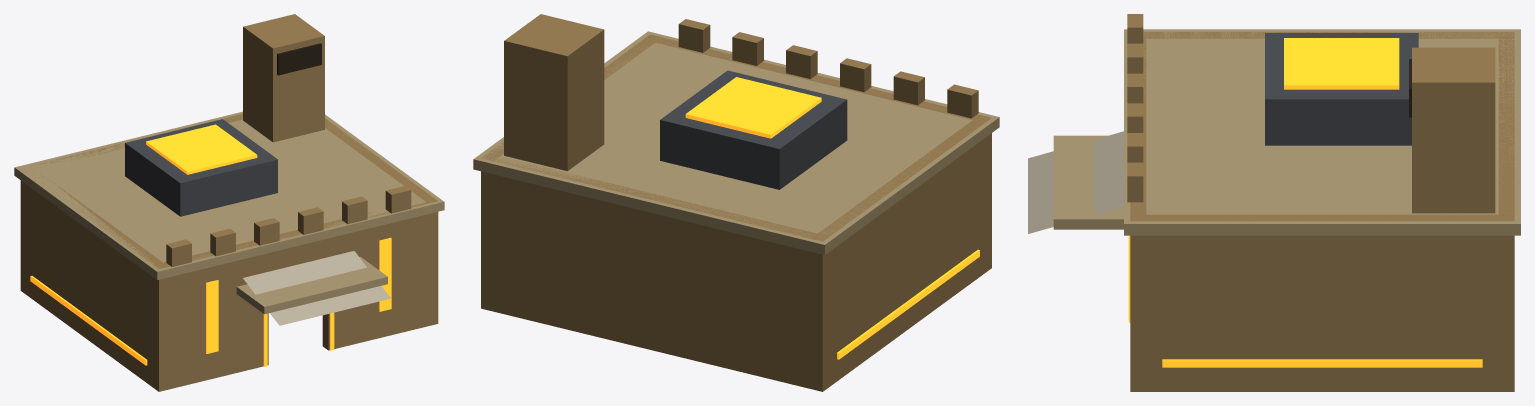
The model's file is shaddai_dist_desert_b2_v01.glb.
3 renders of one model, left to right at view 1: azimuth 30°, elevation 25°; view 2: azimuth 150°, elevation 25°; view 3: azimuth 270°, elevation 25°, orthographic. The views are drawn at different scales.
Parts seen in each view (by area): view 1: shaddai_dist_desert_b2; view 2: shaddai_dist_desert_b2; view 3: shaddai_dist_desert_b2.
Boxes of the visible parts, box(x1,y1,x2,y2) form: shaddai_dist_desert_b2: box(14, 14, 444, 391); shaddai_dist_desert_b2: box(473, 14, 999, 391); shaddai_dist_desert_b2: box(1028, 14, 1520, 391).
Size of the model in its own units: 14.4 by 10.38 by 15.4.
